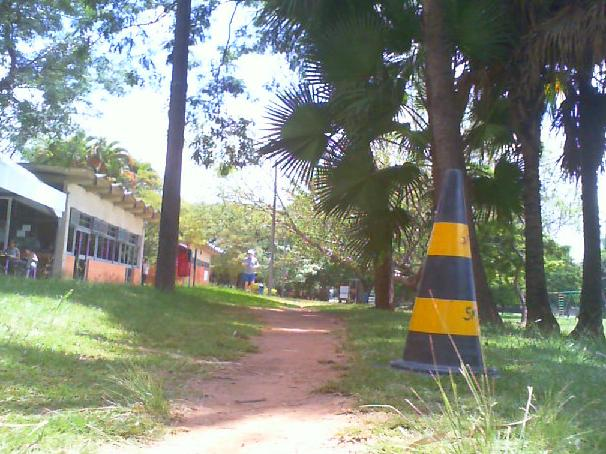0 cone: (390, 169, 504, 379)
